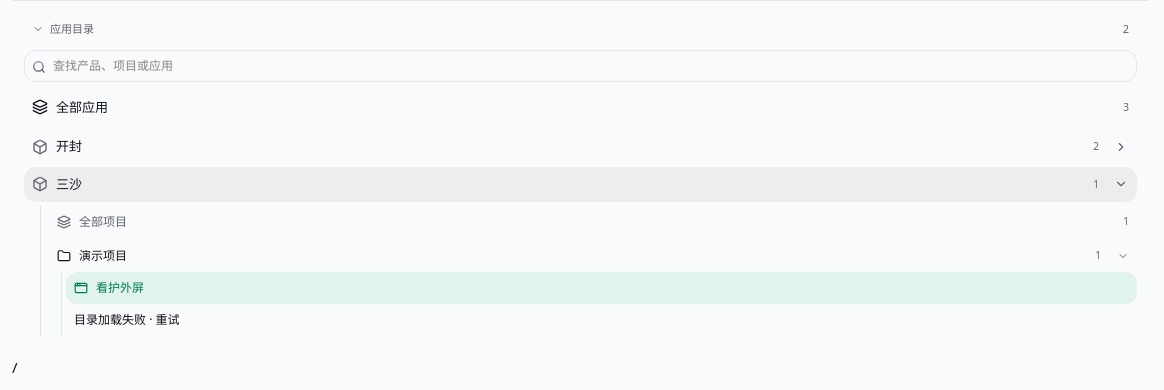
Scenario: 当前应用不在首批结果里也能定位；加载失败可重试
The width and height of the screenshot is (1164, 390).
Step 1. Click the button "目录加载失败 · 重试" → (127, 320), box [66,304,188,336]
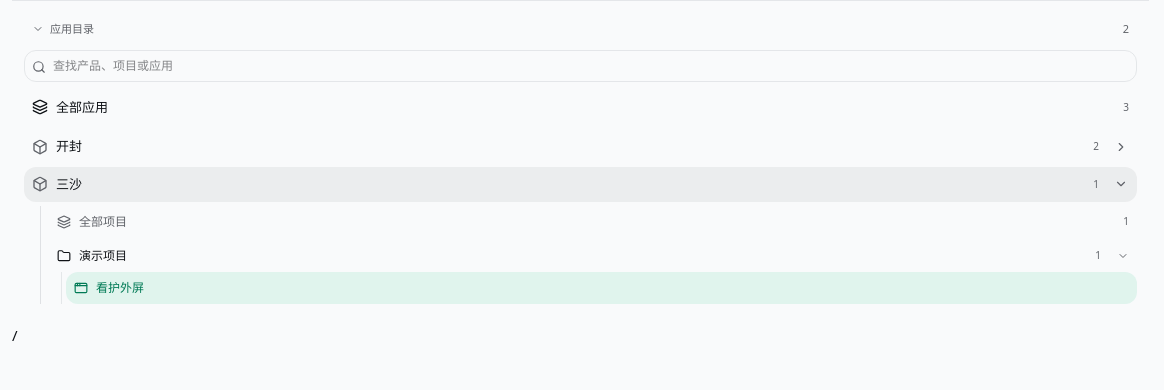
Check: the button "重试" is gone
